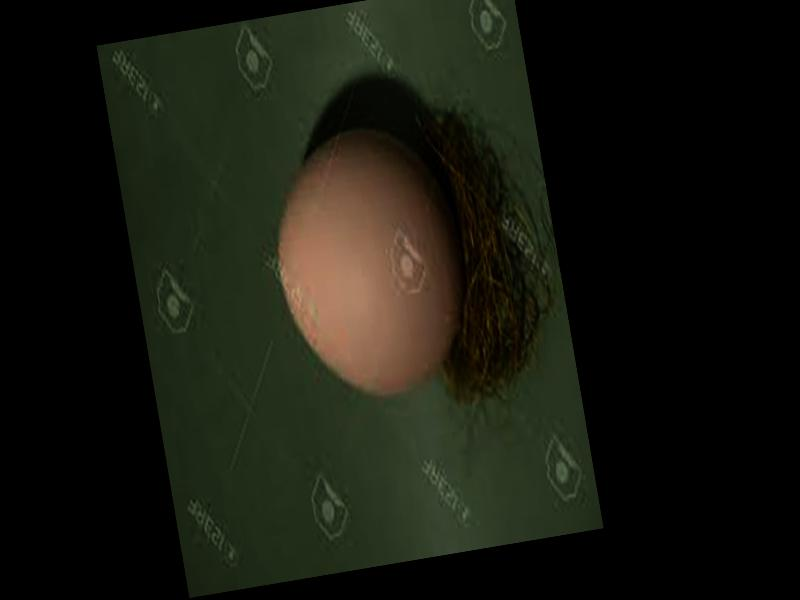Eggs: (257, 115, 479, 408)
